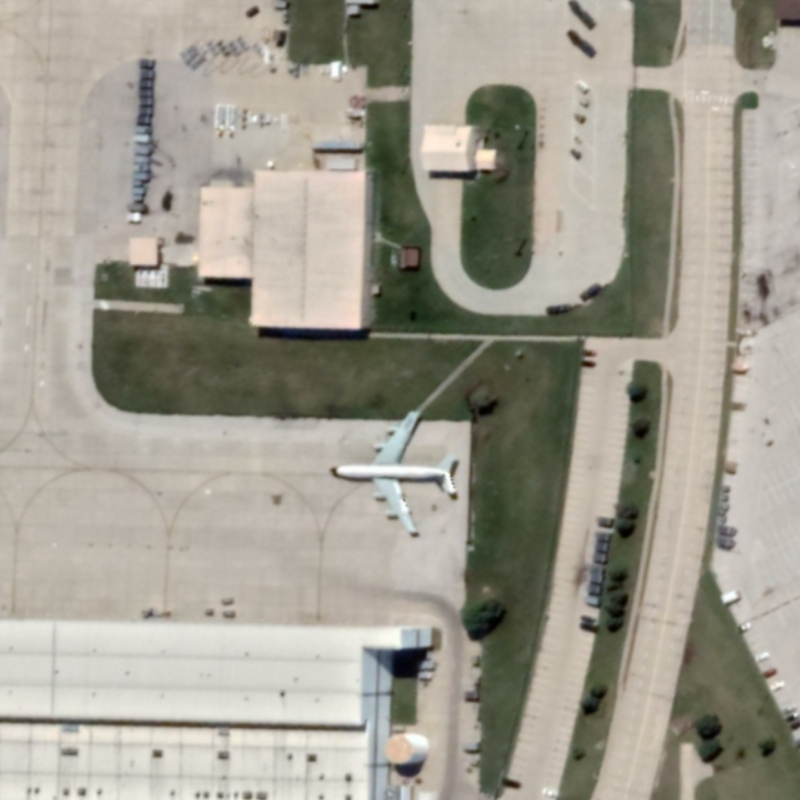A11: (319, 404, 468, 542)
